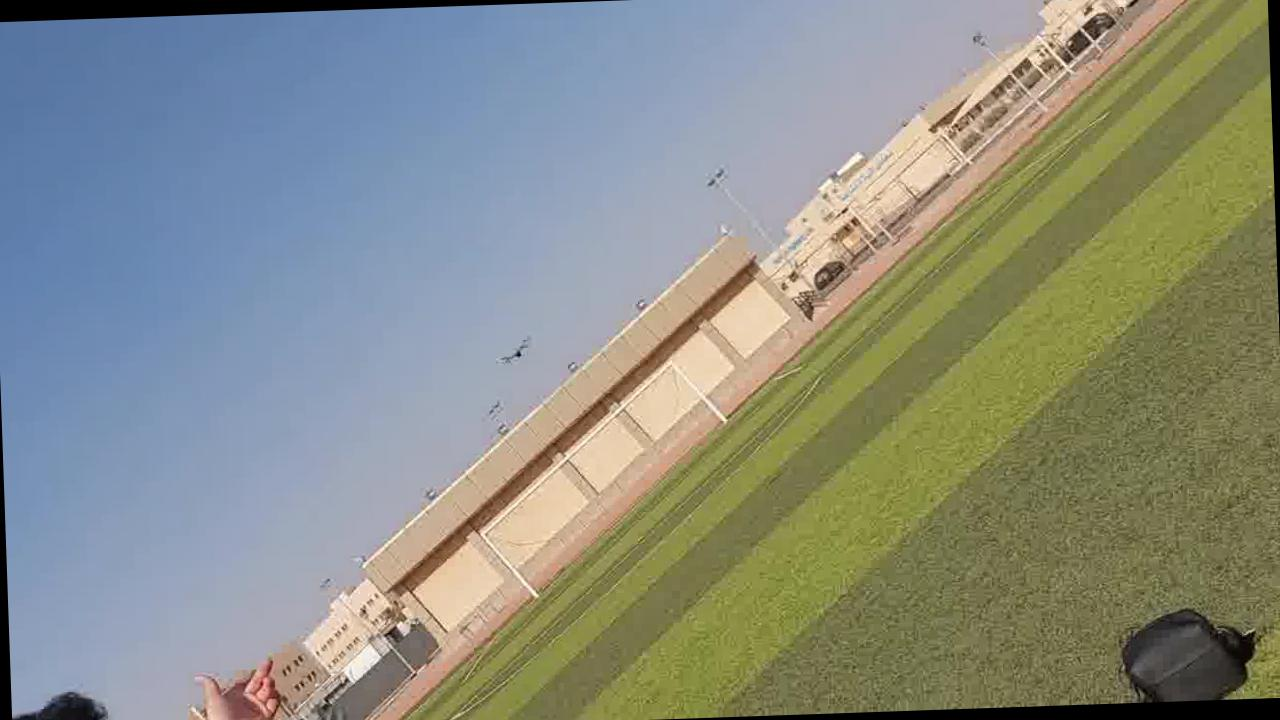drone: (494, 324, 540, 369)
